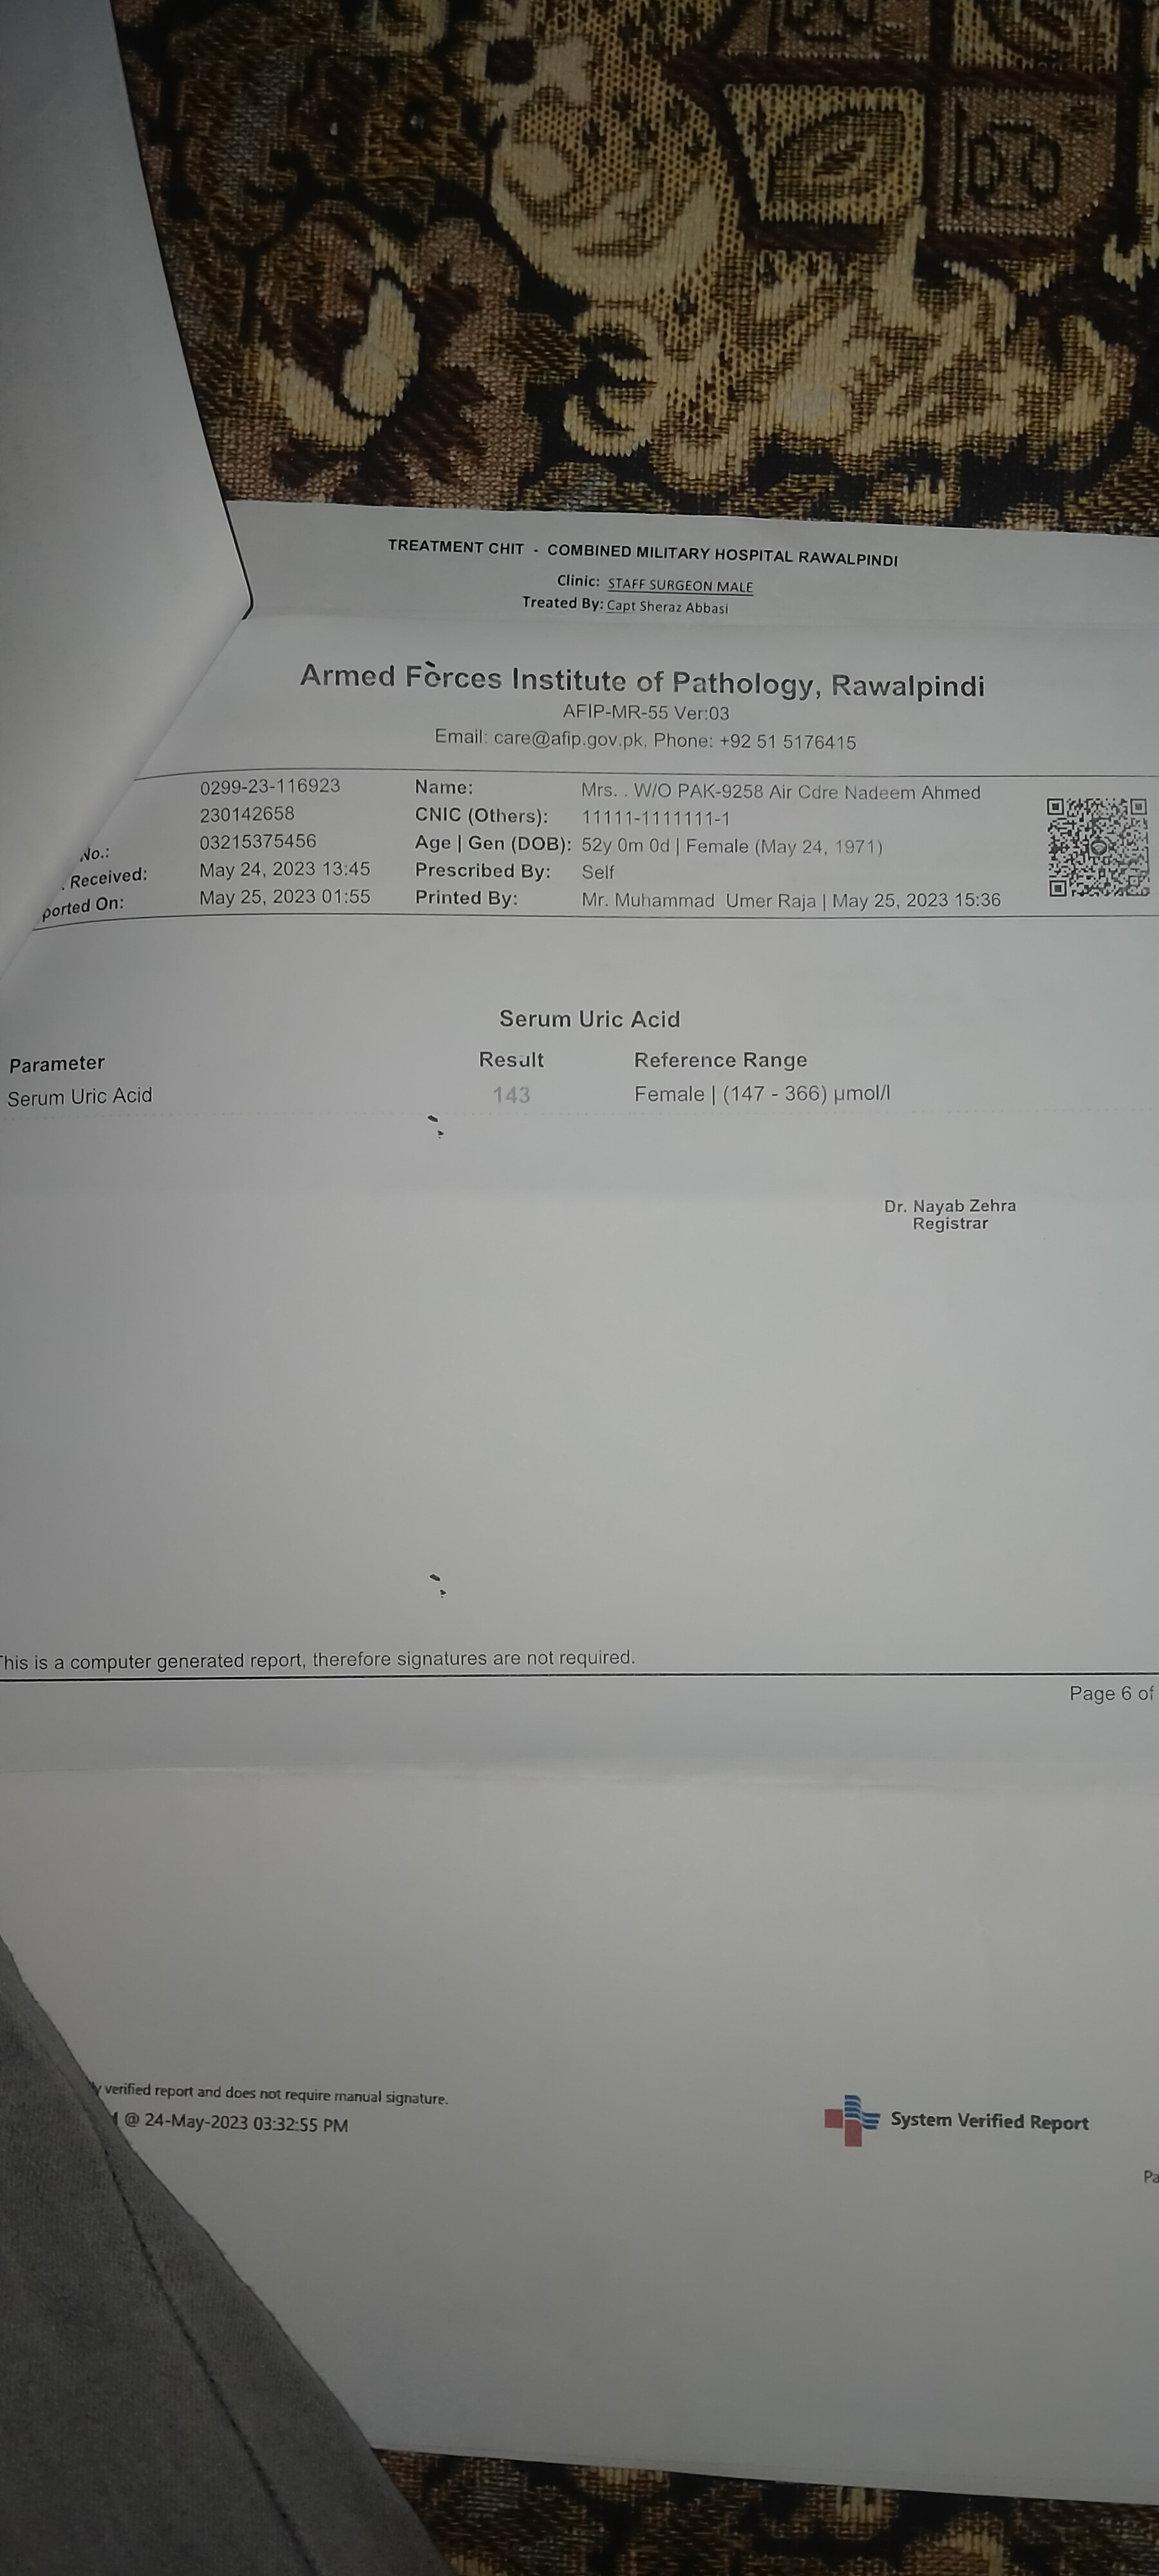report: (3, 927, 1120, 1280)
